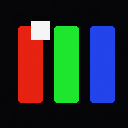1 square: (31, 21, 49, 39)
